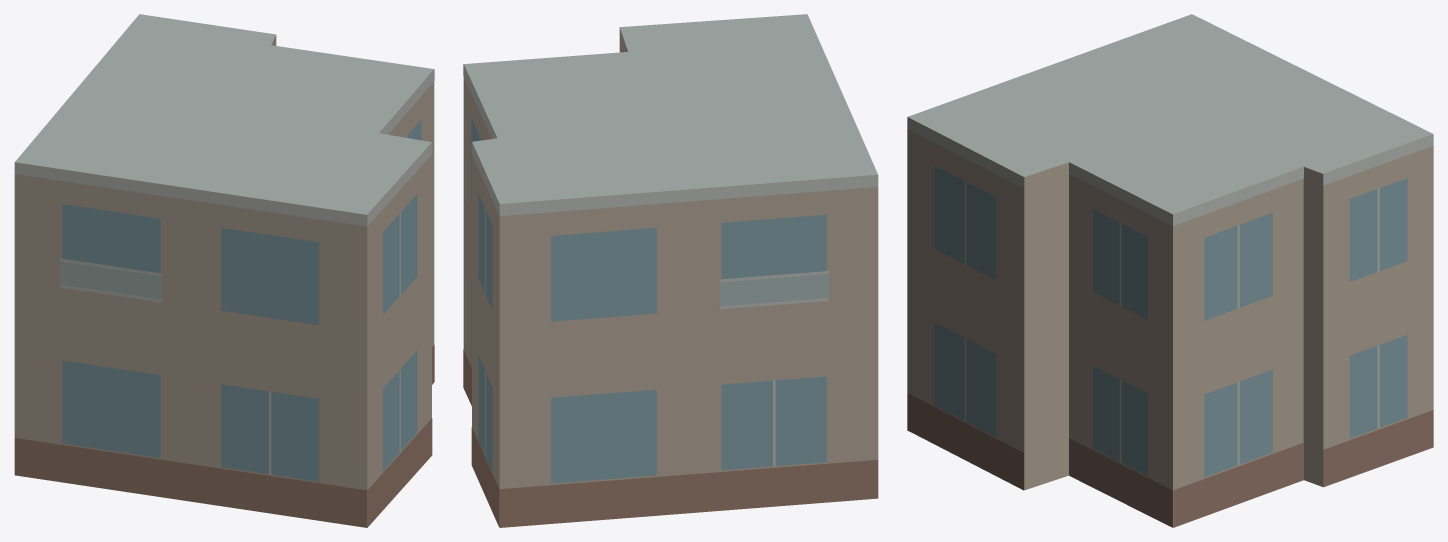
Rendered from survey-upis-32584772.glb.
3 views of the same model, side by side, from view 1: azimuth 30°, elevation 25°; view 2: azimuth 150°, elevation 25°; view 3: azimuth 270°, elevation 25° (orthographic). The views are drawn at different scales.
Visible parts, largest first — view 1: survey-upis-32584772.tmp; view 2: survey-upis-32584772.tmp; view 3: survey-upis-32584772.tmp.
Part boxes in pixels (x1,y1,x2,y2): survey-upis-32584772.tmp: (14, 14, 434, 527); survey-upis-32584772.tmp: (463, 14, 878, 527); survey-upis-32584772.tmp: (907, 14, 1433, 527).
Size of the model in its own units: 8.93 by 6.5 by 9.9.
